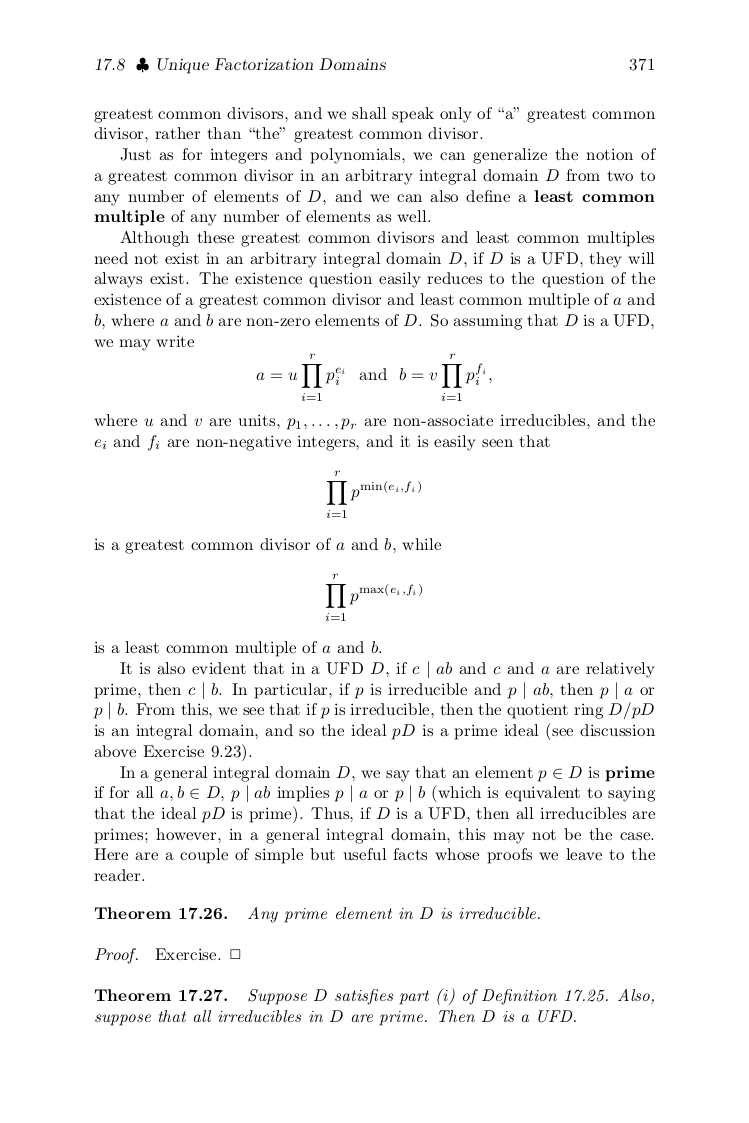formula: (256, 354, 491, 400), (325, 573, 421, 620), (326, 470, 420, 517)
